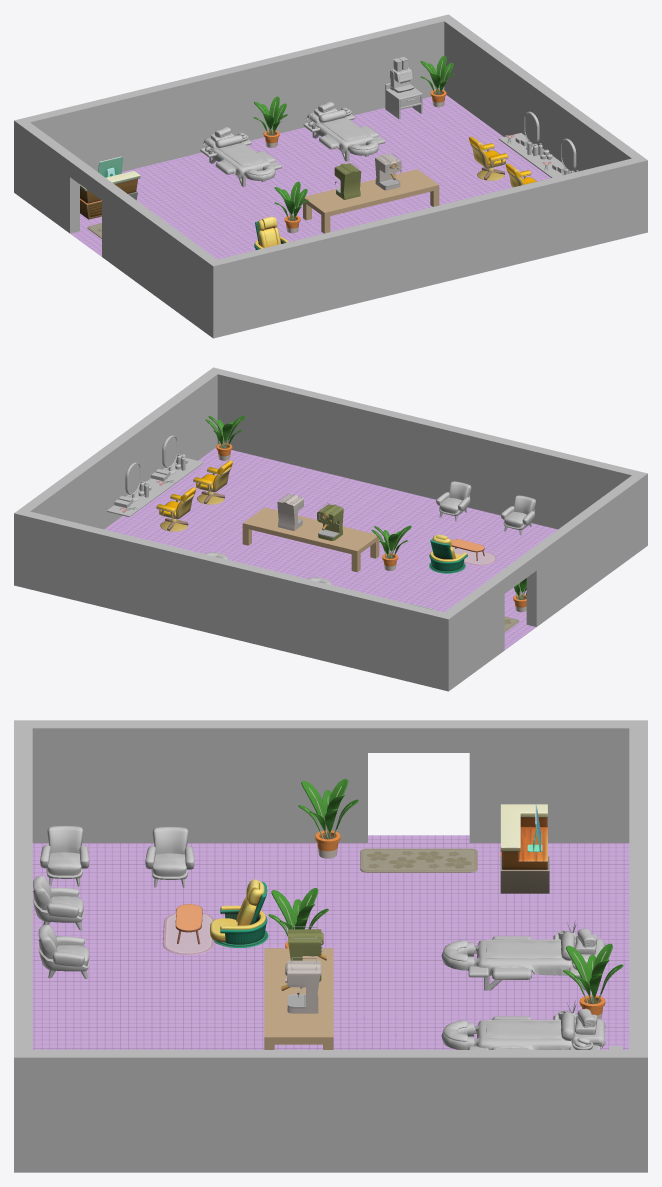
The model's file is RoomSerenity.fbx.
3 renders of one model, top to bottom at view 1: azimuth 30°, elevation 25°; view 2: azimuth 150°, elevation 25°; view 3: azimuth 270°, elevation 25°, orthographic. The views are drawn at different scales.
Parts seen in each view (by area): view 1: Room, Green Coffee1, Chair_Arm_Stick_Upgrade_2_6, Plant, Machine_U5; view 2: Room, Chair_Arm_Stick_Upgrade_2_6, Green Coffee1, Plant; view 3: Room, Green Coffee1, Plant.
Boxes of the visible parts, box(x1,y1,x2,y2) form: Room: box(14, 14, 647, 338); Green Coffee1: box(303, 153, 439, 233); Chair_Arm_Stick_Upgrade_2_6: box(469, 111, 578, 187); Plant: box(149, 55, 454, 233); Machine_U5: box(385, 57, 422, 119); Room: box(14, 367, 647, 691); Chair_Arm_Stick_Upgrade_2_6: box(107, 435, 232, 531); Green Coffee1: box(242, 493, 379, 572); Plant: box(205, 415, 526, 612); Room: box(14, 720, 647, 1172); Green Coffee1: box(264, 926, 333, 1049); Plant: box(268, 778, 623, 1019).
Size of the model in its own units: 152 by 25.58 by 120.
